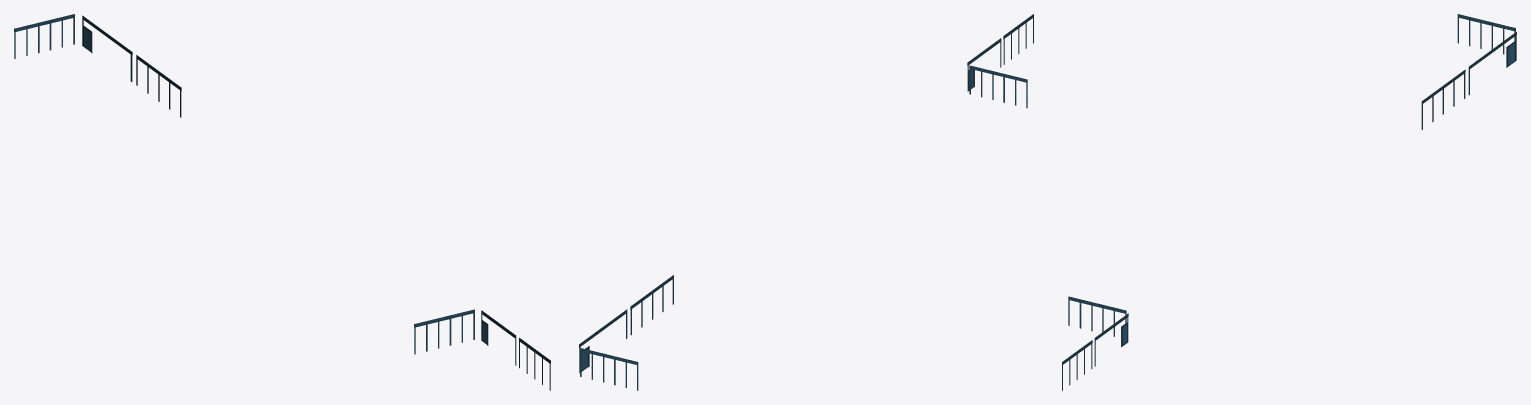
File: TWBuildingM_a_RollingDoorA_Mesh.fbx
3 renders of one model, left to right at view 1: azimuth 30°, elevation 25°; view 2: azimuth 150°, elevation 25°; view 3: azimuth 330°, elevation 25°, orthographic. The views are drawn at different scales.
Visible parts, largest first — view 1: TWBuildingM_a_RollingDoorA_Mesh; view 2: TWBuildingM_a_RollingDoorA_Mesh; view 3: TWBuildingM_a_RollingDoorA_Mesh.
Part boxes in pixels (x1=…): TWBuildingM_a_RollingDoorA_Mesh: x1=14, y1=14, x2=550, y2=390; TWBuildingM_a_RollingDoorA_Mesh: x1=579, y1=14, x2=1033, y2=390; TWBuildingM_a_RollingDoorA_Mesh: x1=1062, y1=14, x2=1516, y2=390.
Bounding box in the file's own units: 866 × 368 × 10467.
Materials: 1 (1 with a texture image).
